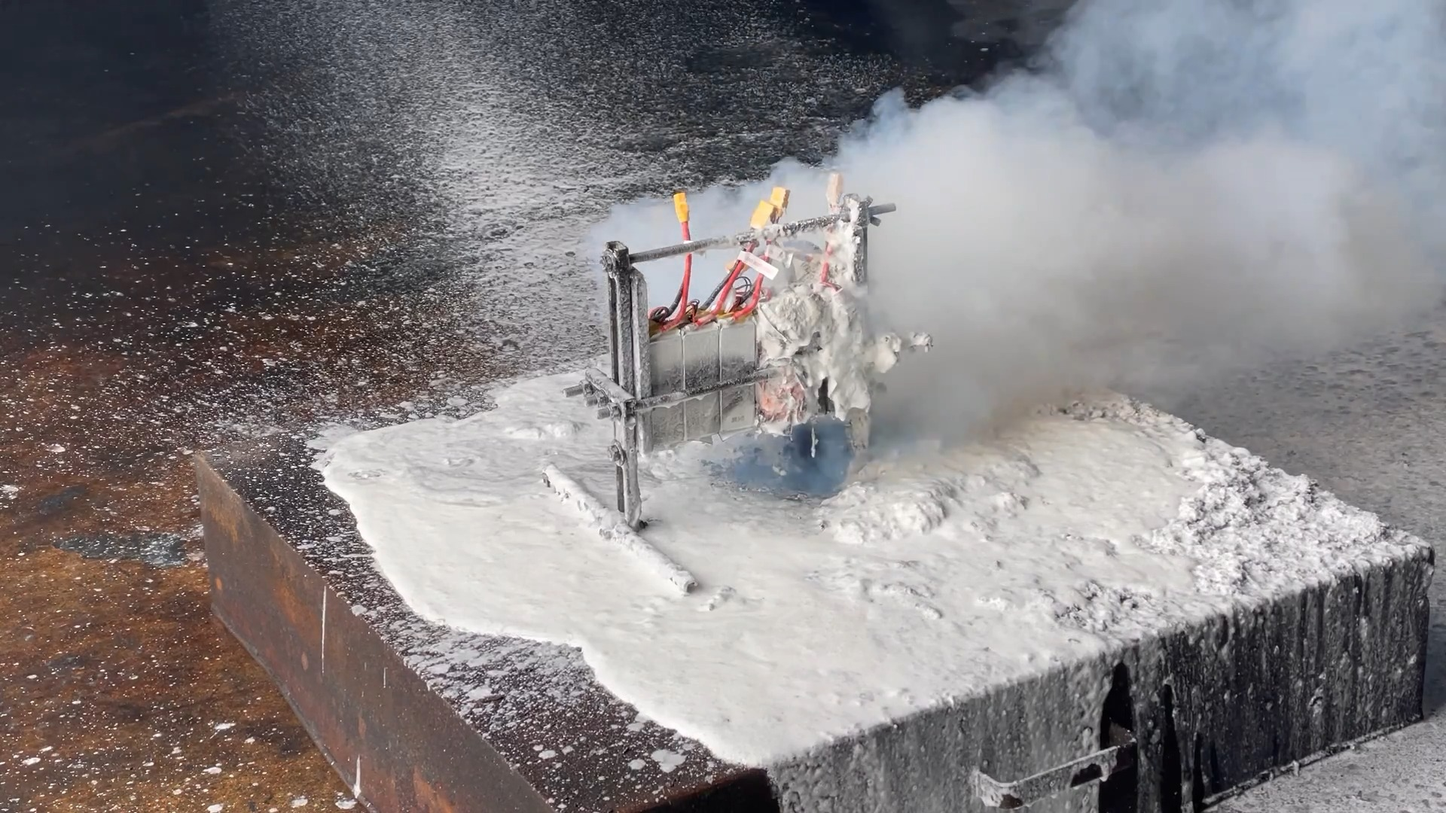smoke: (800, 1, 1446, 454)
